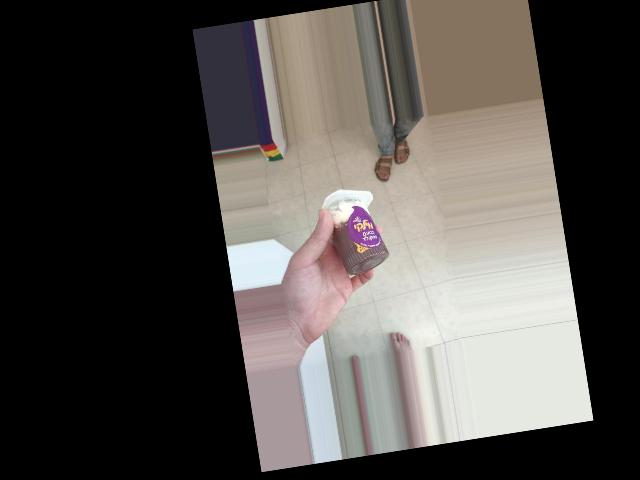milky: (315, 191, 382, 275)
